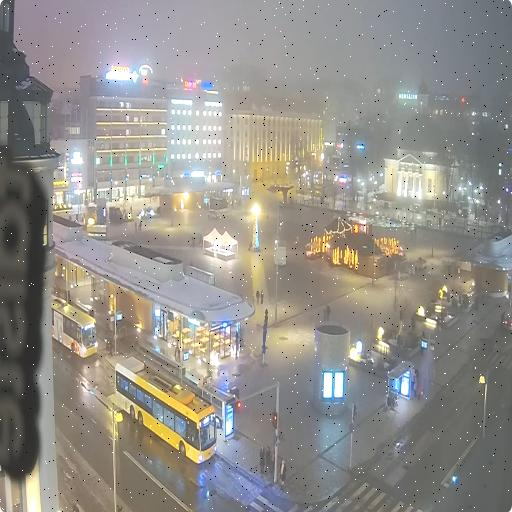Bus: (116, 357, 216, 462), (52, 295, 98, 356)
